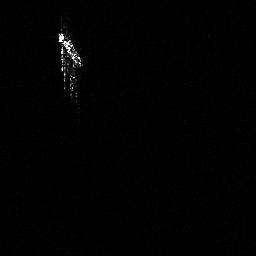ship: (53, 25, 88, 107)
